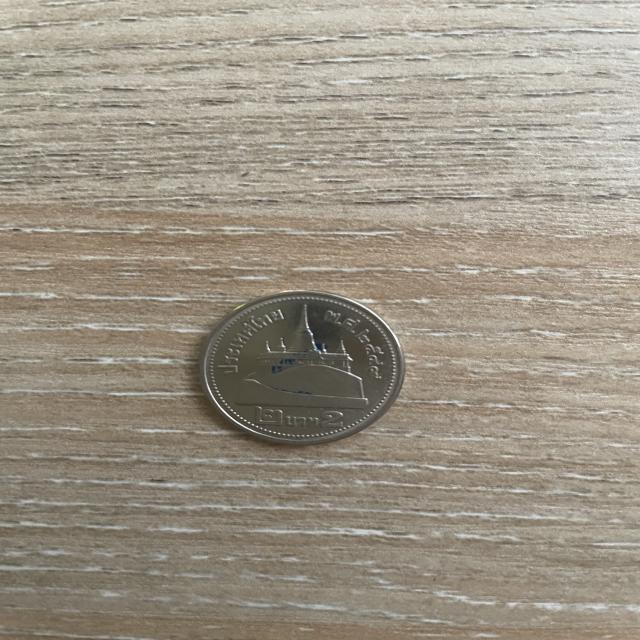2 Bath: (190, 287, 424, 457)
